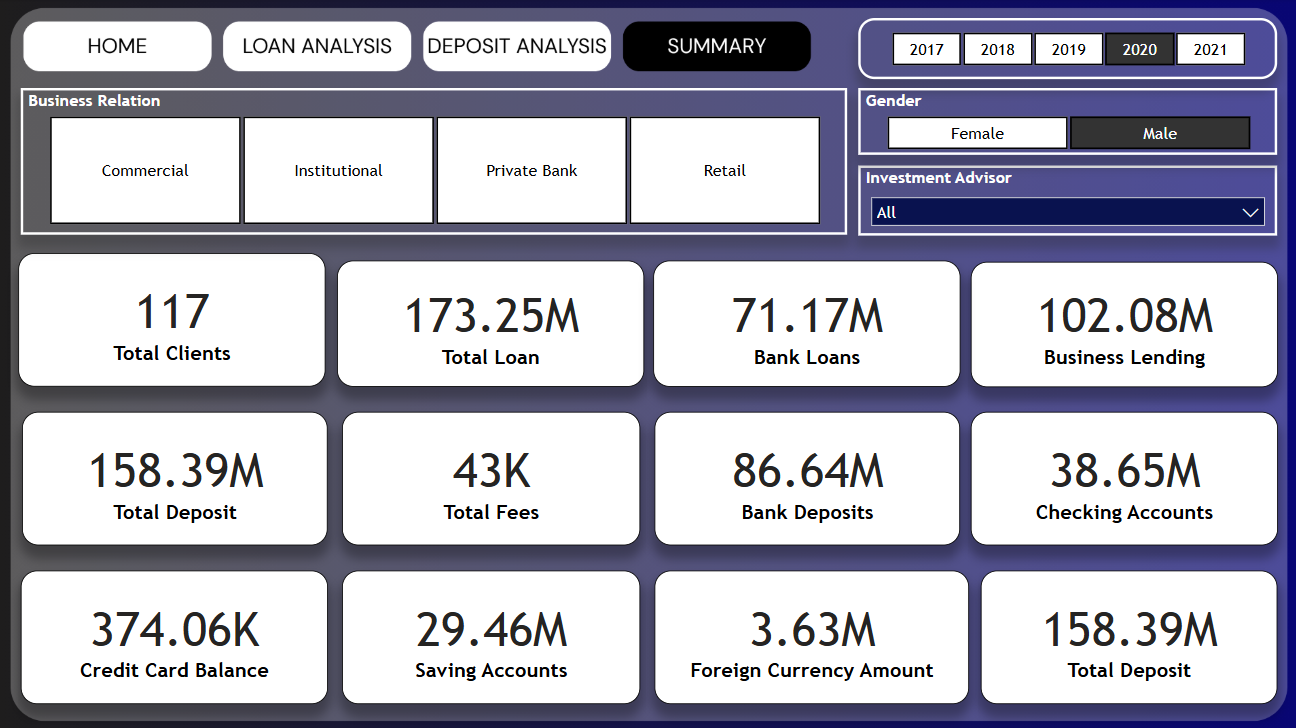

The page's visual inventory and layout, read from the dashboard file:
{"tool":"powerbi","page":{"name":"Summary","canvas":[1280,720],"ordinal":3},"visuals":[{"type":"card","fields":{"Values":["CountNonNull(Banking.Client ID)"]},"box":[21.4,250,301.4,131.4],"z":0},{"type":"card","fields":{"Values":["Measures Table.Total Loan"]},"box":[334.3,257.1,301.4,124.3],"z":1000},{"type":"card","fields":{"Values":["Measures Table.Total Deposit"]},"box":[24.3,405.7,300,131.4],"z":2000},{"type":"card","fields":{"Values":["Sum(Banking.Business Lending)"]},"box":[955.7,258.6,301.4,122.9],"z":3000},{"type":"card","fields":{"Values":["Sum(Banking.Saving Accounts)"]},"box":[338.6,561.4,292.9,131.4],"z":4000},{"type":"card","fields":{"Values":["Sum(Banking.Checking Accounts)"]},"box":[955.7,405.7,301.4,131.4],"z":5000},{"type":"card","fields":{"Values":["Sum(Banking.Credit Card Balance)"]},"box":[22.9,561.4,301.4,131.4],"z":6000},{"type":"card","fields":{"Values":["Sum(Banking.Bank Loans)"]},"box":[644.3,257.1,301.4,124.3],"z":7000},{"type":"card","fields":{"Values":["Sum(Banking.Fee Structure)"]},"box":[338.6,405.7,292.9,131.4],"z":8000},{"type":"card","fields":{"Values":["Sum(Banking.Bank Deposits)"]},"box":[645.7,405.7,300,131.4],"z":9000},{"type":"card","fields":{"Values":["Sum(Banking.Foreign Currency Account)"]},"box":[645.7,561.4,308.6,131.4],"z":10000},{"type":"card","fields":{"Values":["Measures Table.Total Deposit"]},"box":[965.7,561.4,291.4,131.4],"z":11000},{"type":"slicer","fields":{"Values":["Banking.Year of Joining"]},"box":[845.7,20,411.4,60],"z":12000},{"type":"slicer","title":"Investment Advisor","fields":{"Values":["Banking.IAId"]},"box":[845.7,164.3,411.4,68.6],"z":13000},{"type":"slicer","title":"Gender","fields":{"Values":["Banking.GenderId"]},"box":[845.7,88.6,411.4,65.7],"z":14000},{"type":"slicer","title":"Business Relation","fields":{"Values":["Banking.BRId"]},"box":[22.9,88.6,811.4,144.3],"z":15000},{"type":"actionButton","box":[24.3,30,181.4,40],"z":16000},{"type":"actionButton","box":[221.4,30,181.4,40],"z":17000},{"type":"actionButton","box":[418.6,30,181.4,40],"z":18000},{"type":"actionButton","box":[614.3,30,181.4,40],"z":19000}]}

Visuals, with their boxes in screenshot pixels (x1, y1, x2, y2), scaled from the page's 1280x720 canvas onto the 1296x728 screenshot:
card - CountNonNull(Banking.Client ID): 22, 253, 327, 386
card - Measures Table.Total Loan: 338, 260, 644, 386
card - Measures Table.Total Deposit: 25, 410, 328, 543
card - Sum(Banking.Business Lending): 968, 261, 1273, 386
card - Sum(Banking.Saving Accounts): 343, 568, 639, 700
card - Sum(Banking.Checking Accounts): 968, 410, 1273, 543
card - Sum(Banking.Credit Card Balance): 23, 568, 328, 700
card - Sum(Banking.Bank Loans): 652, 260, 958, 386
card - Sum(Banking.Fee Structure): 343, 410, 639, 543
card - Sum(Banking.Bank Deposits): 654, 410, 958, 543
card - Sum(Banking.Foreign Currency Account): 654, 568, 966, 700
card - Measures Table.Total Deposit: 978, 568, 1273, 700
slicer - Banking.Year of Joining: 856, 20, 1273, 81
"Investment Advisor" slicer: 856, 166, 1273, 235
"Gender" slicer: 856, 90, 1273, 156
"Business Relation" slicer: 23, 90, 845, 235
actionButton: 25, 30, 208, 71
actionButton: 224, 30, 408, 71
actionButton: 424, 30, 608, 71
actionButton: 622, 30, 806, 71
